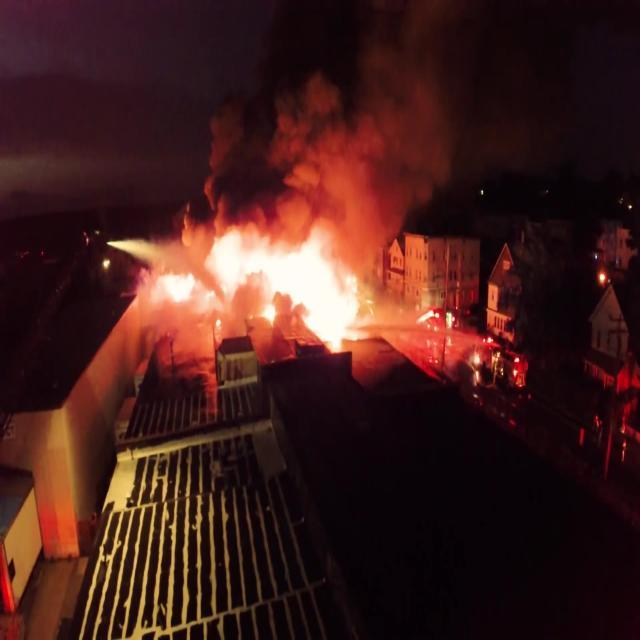Smoke: (234, 104, 400, 218)
